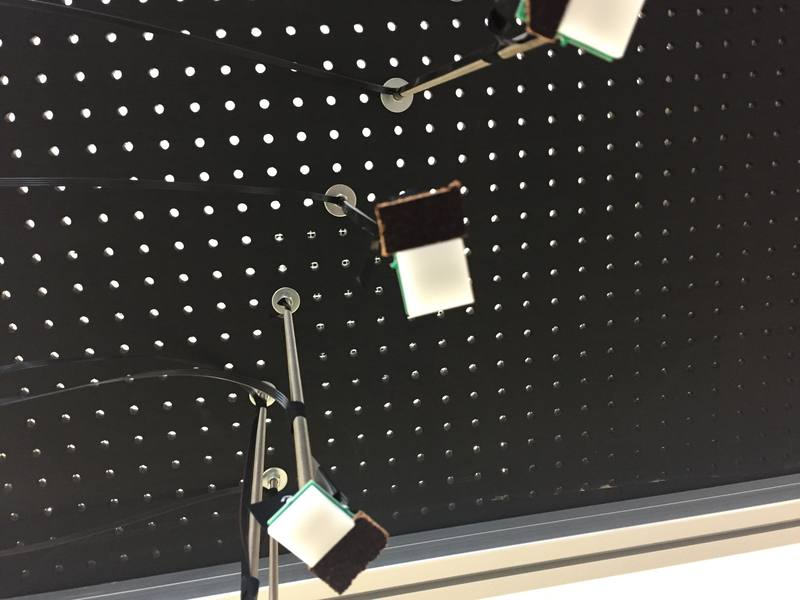target: (264, 485, 357, 569), (394, 239, 478, 317)
